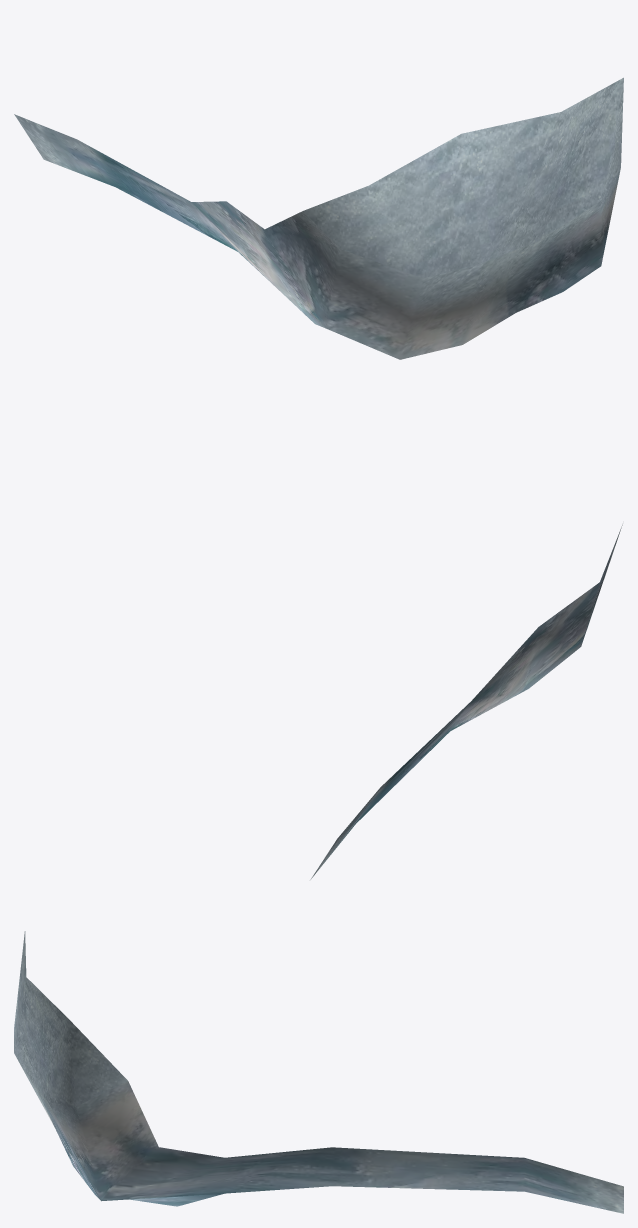
3 renders of one model, top to bottom at view 1: azimuth 30°, elevation 25°; view 2: azimuth 150°, elevation 25°; view 3: azimuth 270°, elevation 25°, orthographic. The views are drawn at different scales.
Parts seen in each view (by area): view 1: model_Object45; view 2: model_Object45; view 3: model_Object45.
Part boxes in pixels (<box>): model_Object45: <box>14,77,623,359</box>; model_Object45: <box>310,524,622,879</box>; model_Object45: <box>14,931,623,1213</box>.
Bounding box in the file's own units: 5.38 × 3.81 × 8.64.
Materials: 2 (2 with a texture image).
